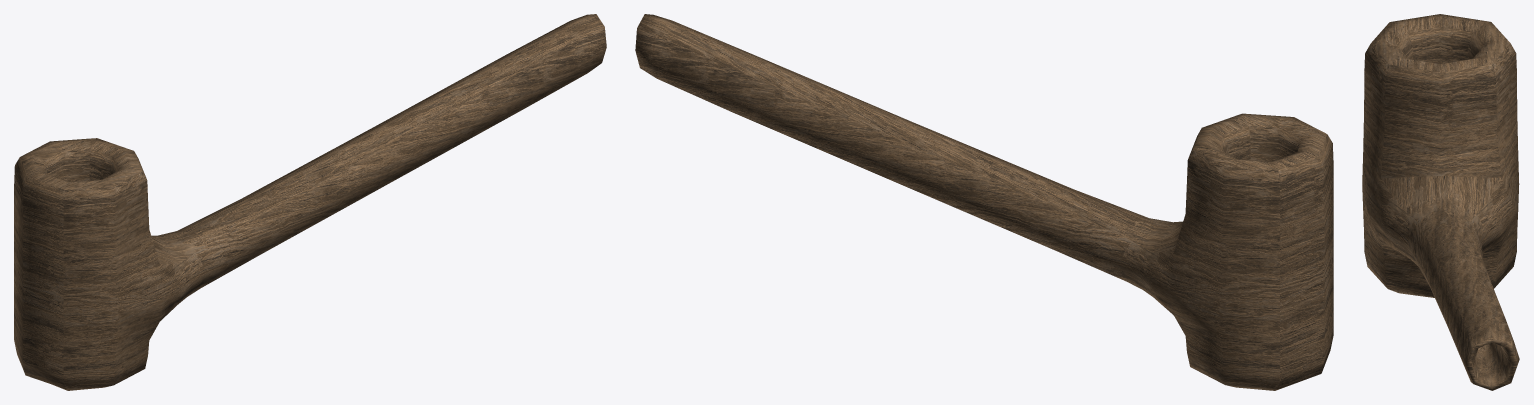
File: SM_Pipo00.fbx
3 views of the same model, side by side, from view 1: azimuth 30°, elevation 25°; view 2: azimuth 150°, elevation 25°; view 3: azimuth 270°, elevation 25° (orthographic). The views are drawn at different scales.
Visible parts, largest first — view 1: SM_Pipo00; view 2: SM_Pipo00; view 3: SM_Pipo00.
Boxes of the visible parts, x1,y1,x2,y2 form: SM_Pipo00: (14,14,606,390); SM_Pipo00: (635,14,1333,390); SM_Pipo00: (1362,14,1519,390).
Bounding box in the file's own units: 34.95 × 11.93 × 7.07.
